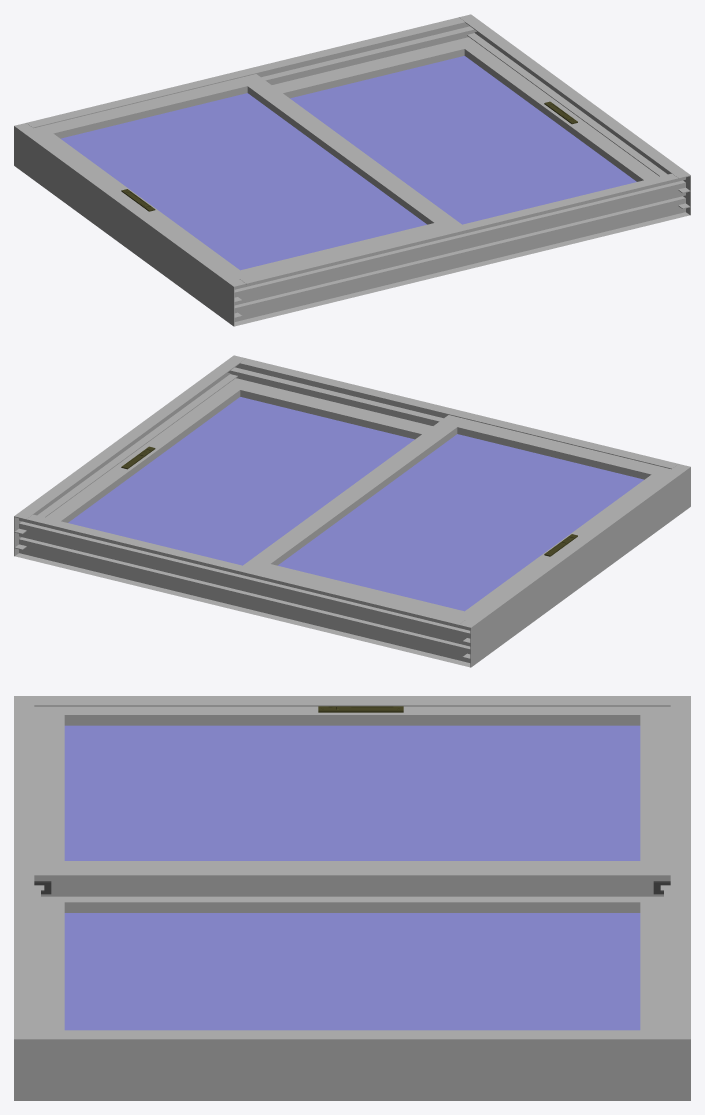
The model's file is fenetre_coulissante.fbx.
The picture shows the model from 3 angles, top to bottom: view 1: azimuth 30°, elevation 25°; view 2: azimuth 150°, elevation 25°; view 3: azimuth 270°, elevation 25°; orthographic projection. The views are drawn at different scales.
Visible parts, largest first — view 1: Window_R, WindowFrame, Window_L; view 2: Window_R, WindowFrame, Window_L; view 3: Window_R, Window_L, WindowFrame.
Part boxes in pixels (x1,y1,x2,y2): Window_R: (34, 74, 461, 278); WindowFrame: (14, 14, 690, 326); Window_L: (272, 37, 658, 224); Window_R: (243, 415, 670, 619); WindowFrame: (14, 355, 690, 667); Window_L: (46, 378, 432, 565); Window_R: (34, 706, 670, 896); Window_L: (41, 896, 663, 1030); WindowFrame: (14, 696, 690, 1100).
Bounding box in the file's own units: 1.2 × 0.1018 × 1.
